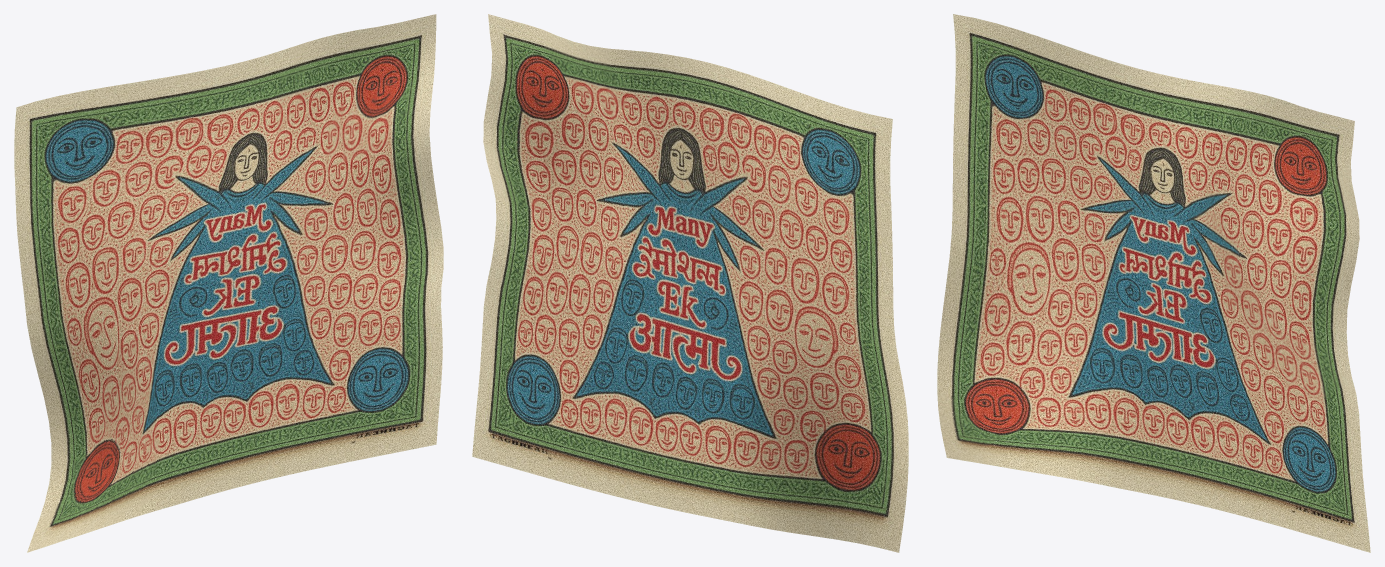
File: scarf4.glb
3 renders of one model, left to right at view 1: azimuth 30°, elevation 25°; view 2: azimuth 150°, elevation 25°; view 3: azimuth 330°, elevation 25°, orthographic.
Parts seen in each view (by area): view 1: Plane; view 2: Plane; view 3: Plane.
Boxes of the visible parts, left/top/right/bottom form: Plane: left=14, top=14, right=443, bottom=552; Plane: left=472, top=14, right=908, bottom=552; Plane: left=937, top=14, right=1370, bottom=552.
Size of the model in its own units: 2 by 2.01 by 0.2616.
1 material, 1 textured.
